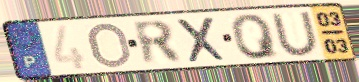4: (52, 23, 89, 71)
O: (87, 21, 134, 70)
Q: (228, 12, 283, 61)
R: (129, 19, 186, 67)
U: (268, 9, 323, 58)
X: (173, 15, 230, 65)
